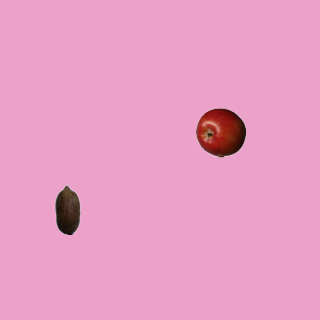Apple Braeburn: (195, 107, 245, 157)
Nut Pecan: (42, 184, 92, 234)
